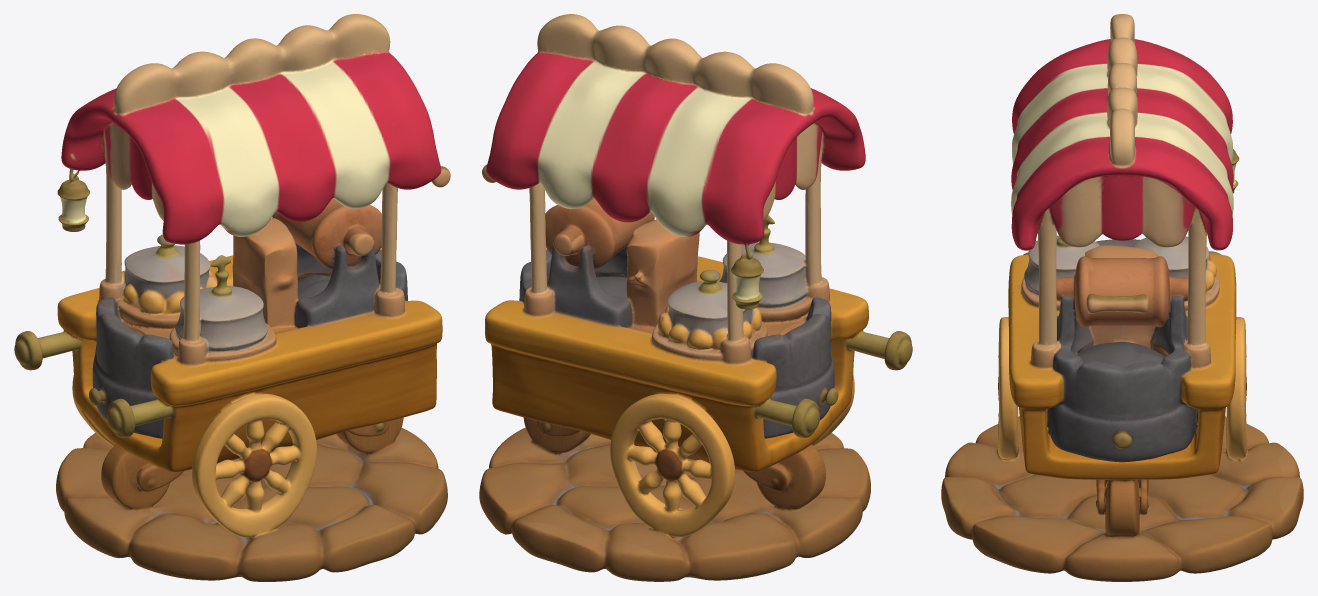
Rendered from snack-cart.glb.
3 renders of one model, left to right at view 1: azimuth 30°, elevation 25°; view 2: azimuth 150°, elevation 25°; view 3: azimuth 270°, elevation 25°, orthographic. The views are drawn at different scales.
Size of the model in its own units: 1.58 by 1.9 by 1.41.
1 material, 1 textured.
